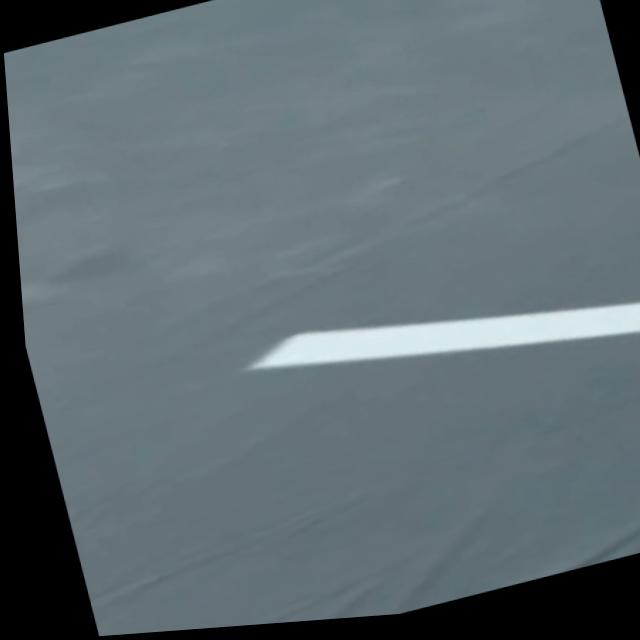center: (247, 300, 640, 368)
